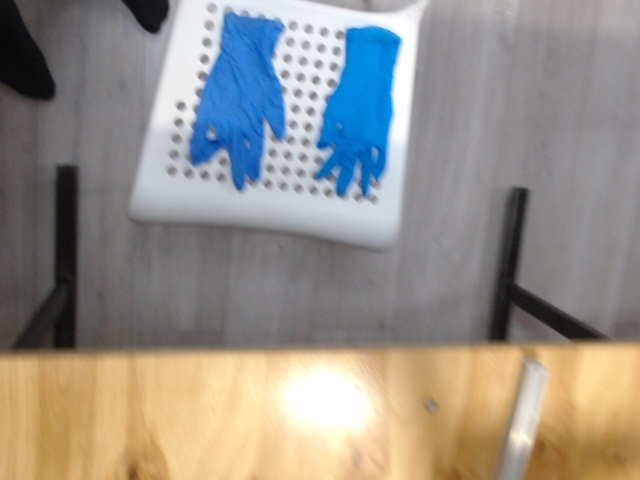medical_glove: (192, 14, 289, 185), (319, 26, 402, 198)
